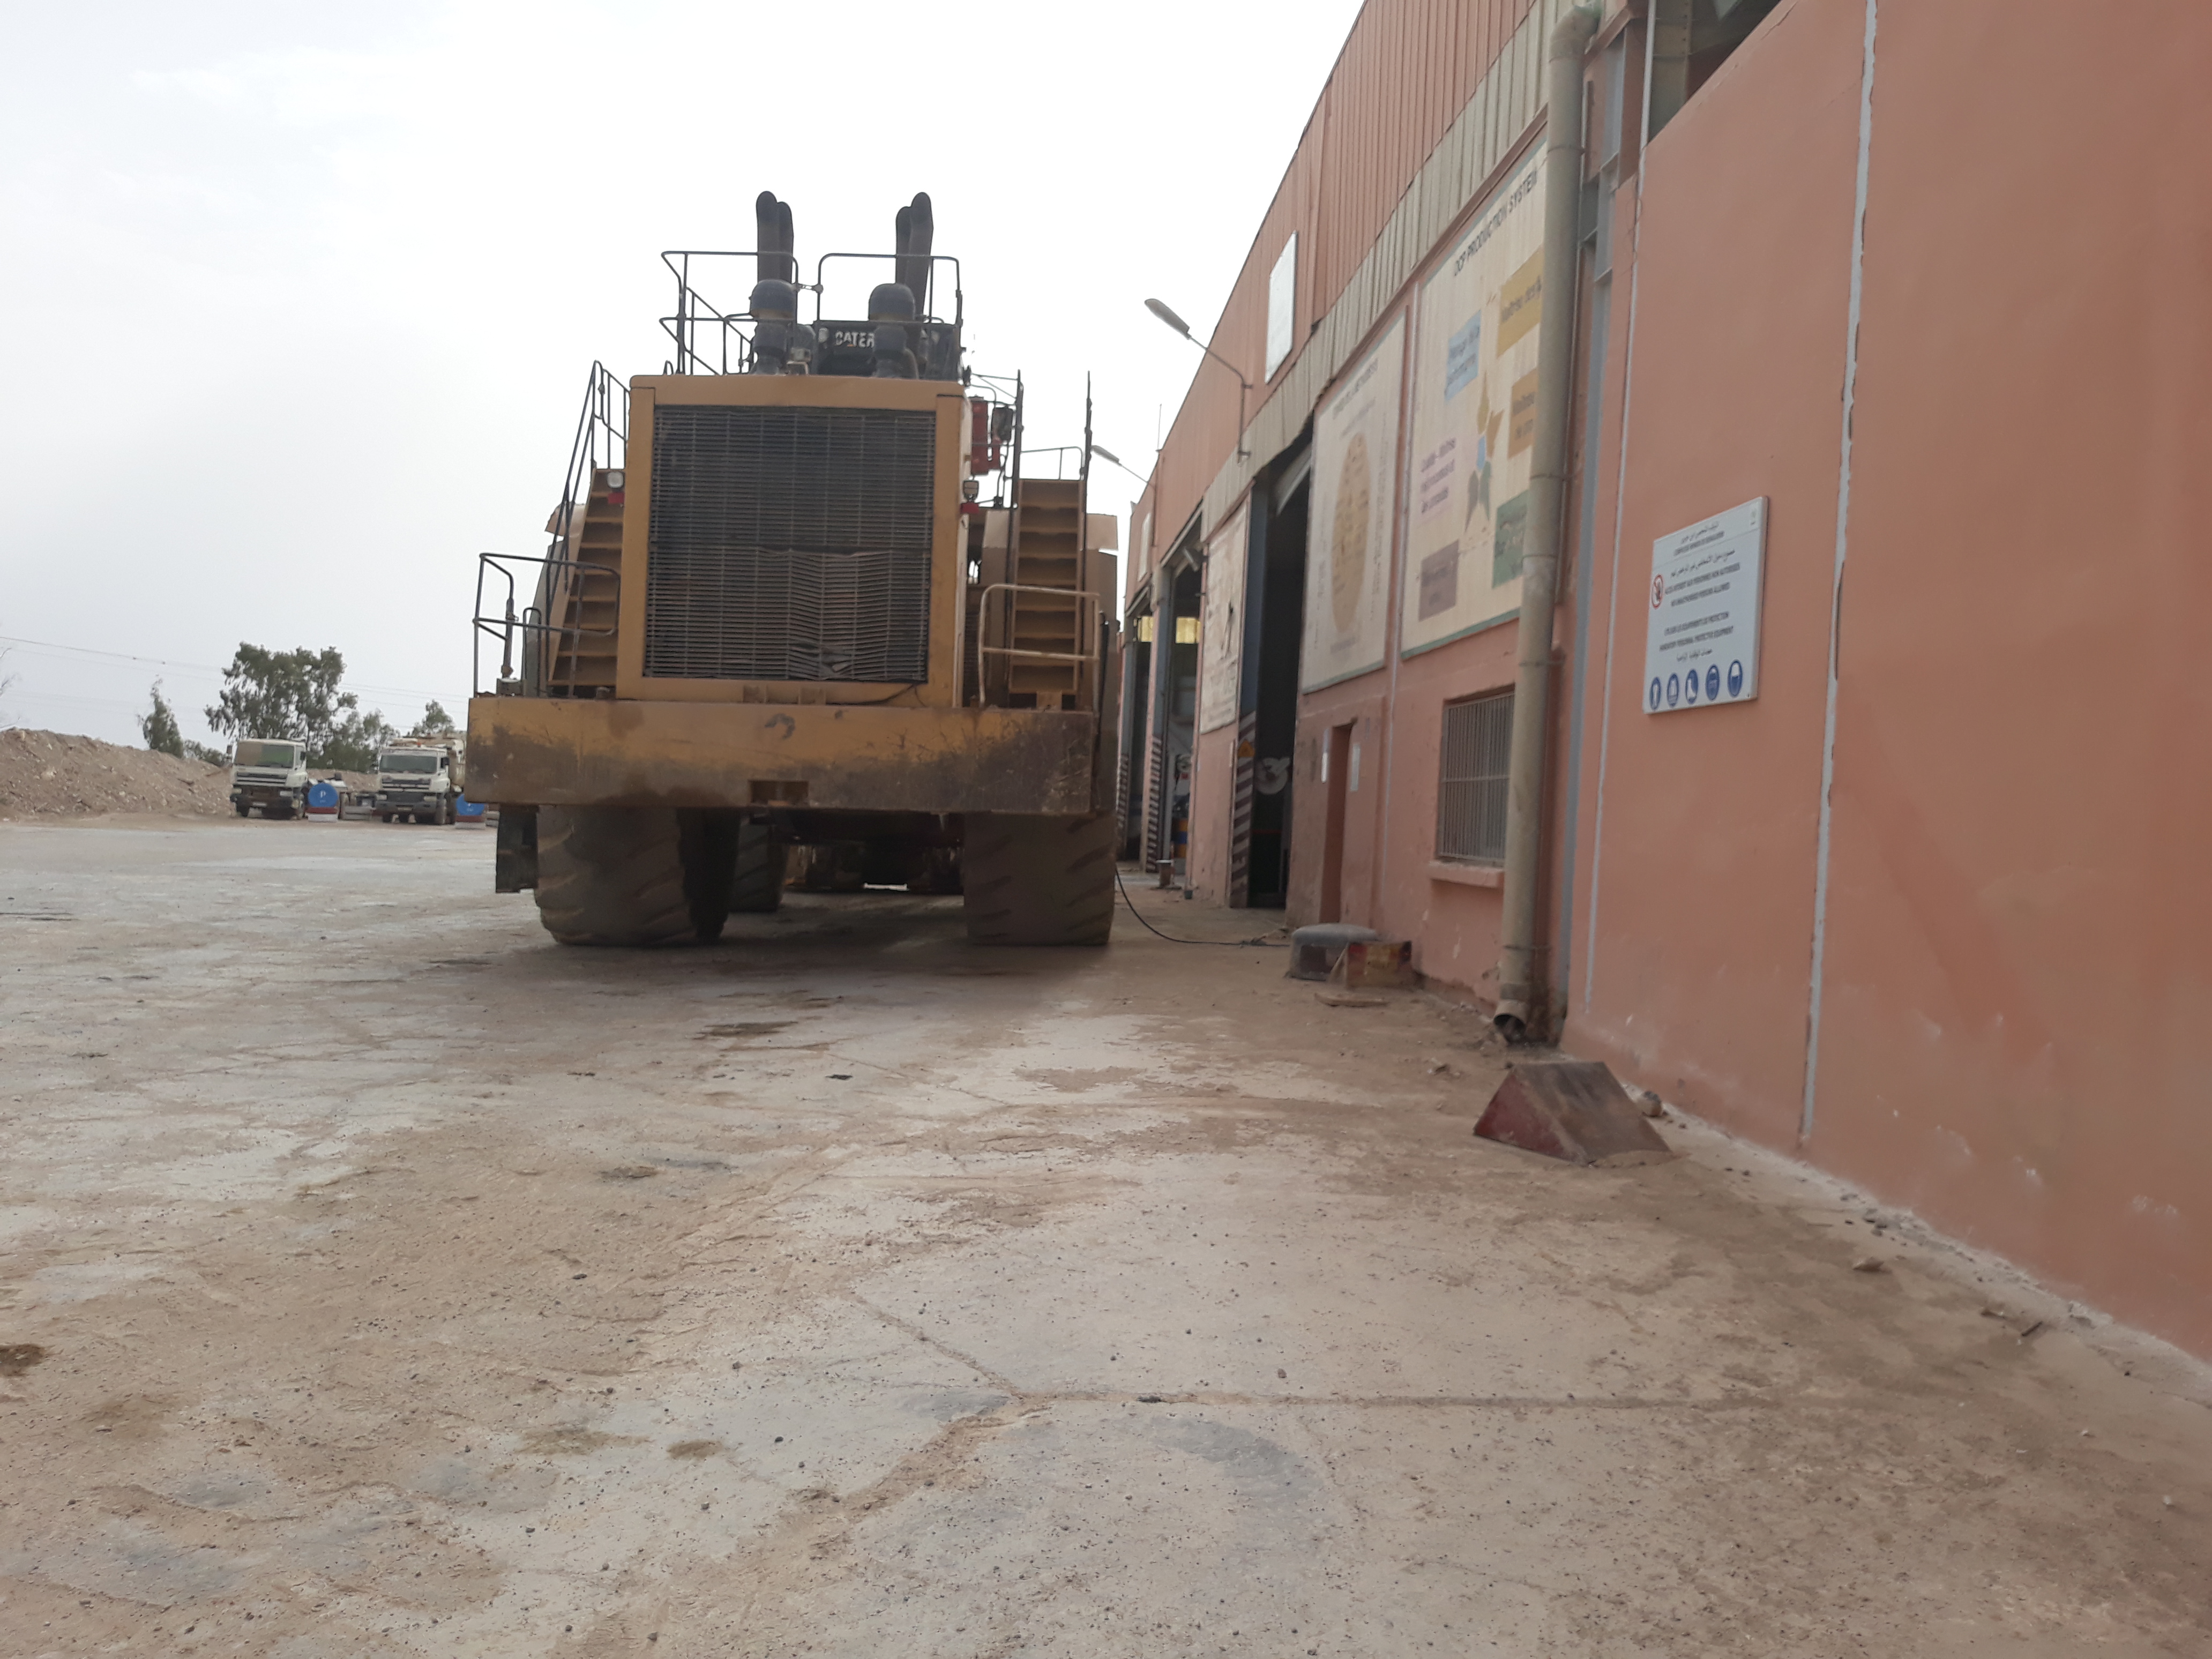chargeuse: (439, 176, 1143, 983)
